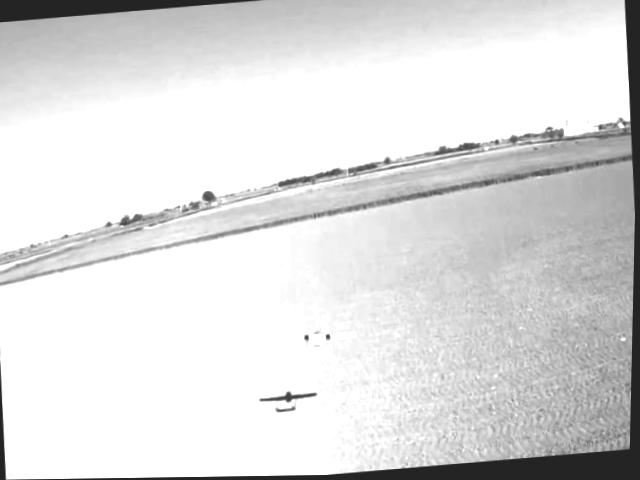hedef: (278, 324, 359, 364)
